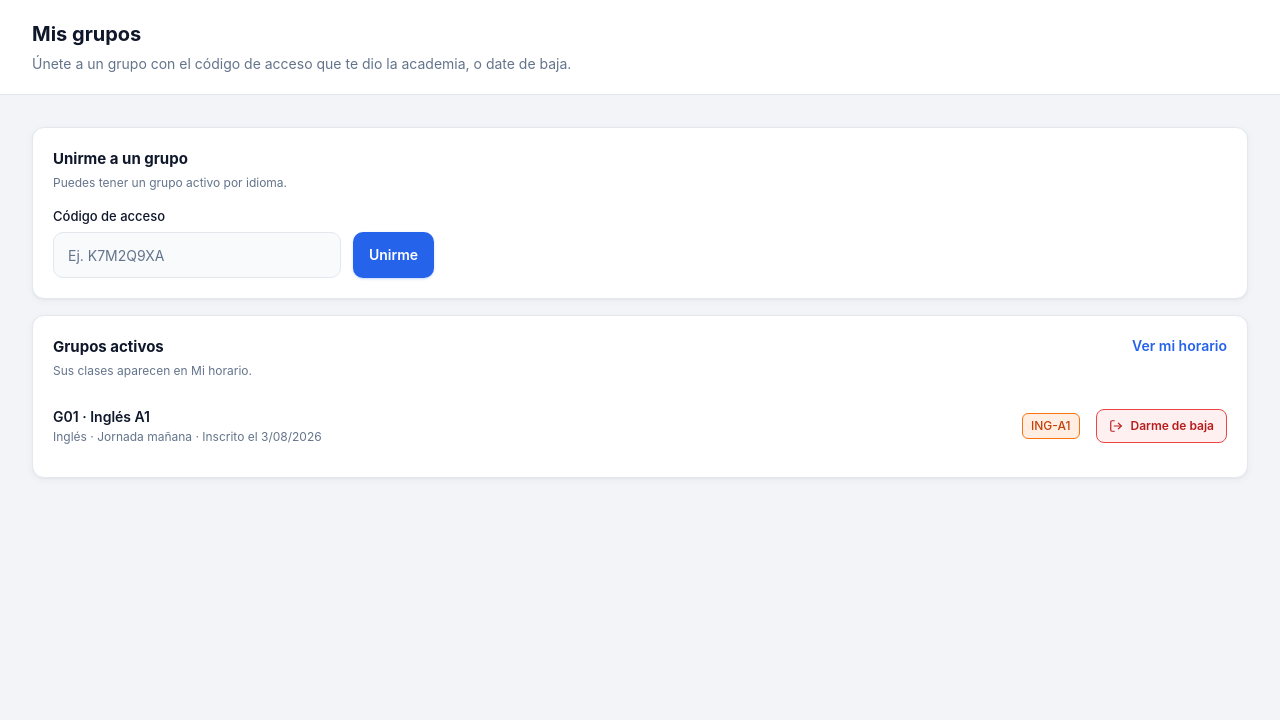
Scenario: Mis grupos del estudiante (RF-26, RF-27) › exige la confirmación escrita antes de la baja
Click the button with aria-label "Darme de baja del grupo G01" at (1161, 426), box [1096,408,1227,442]
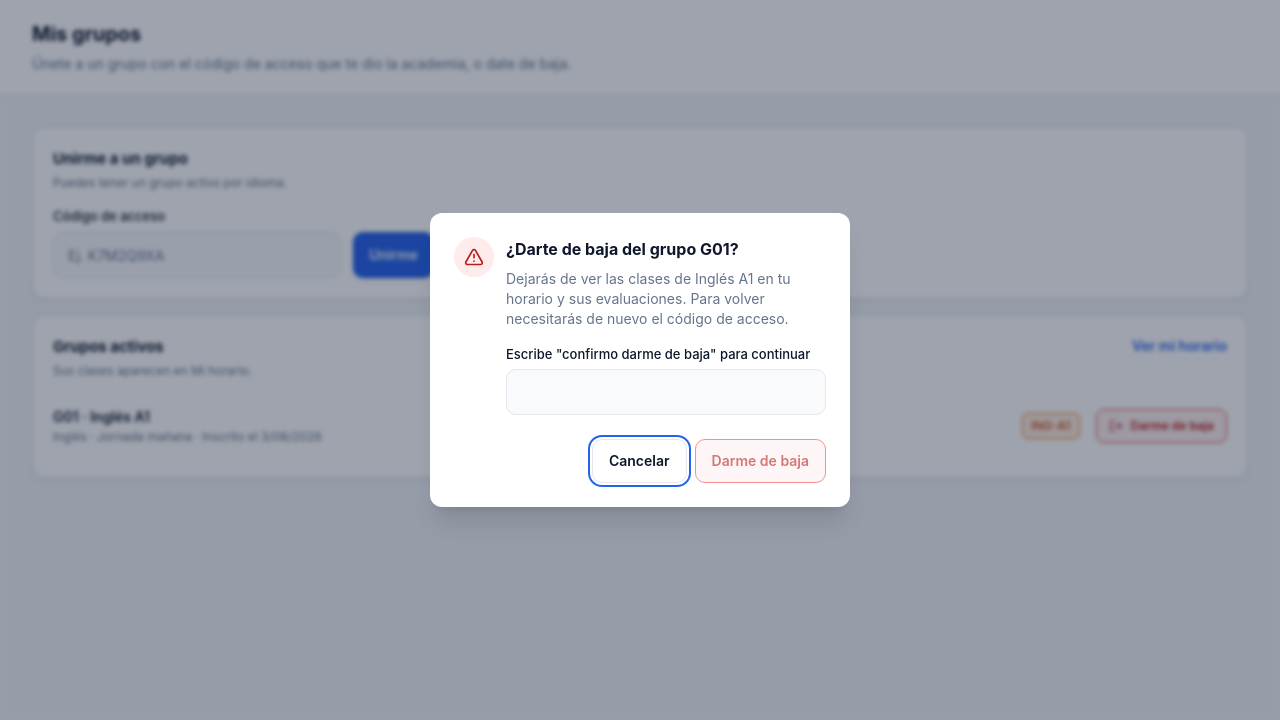
Check: the button "Darme de baja" is disabled, box [695,439,826,483]
Type "confirmo" into the field at (666, 392), box [506,369,826,415]
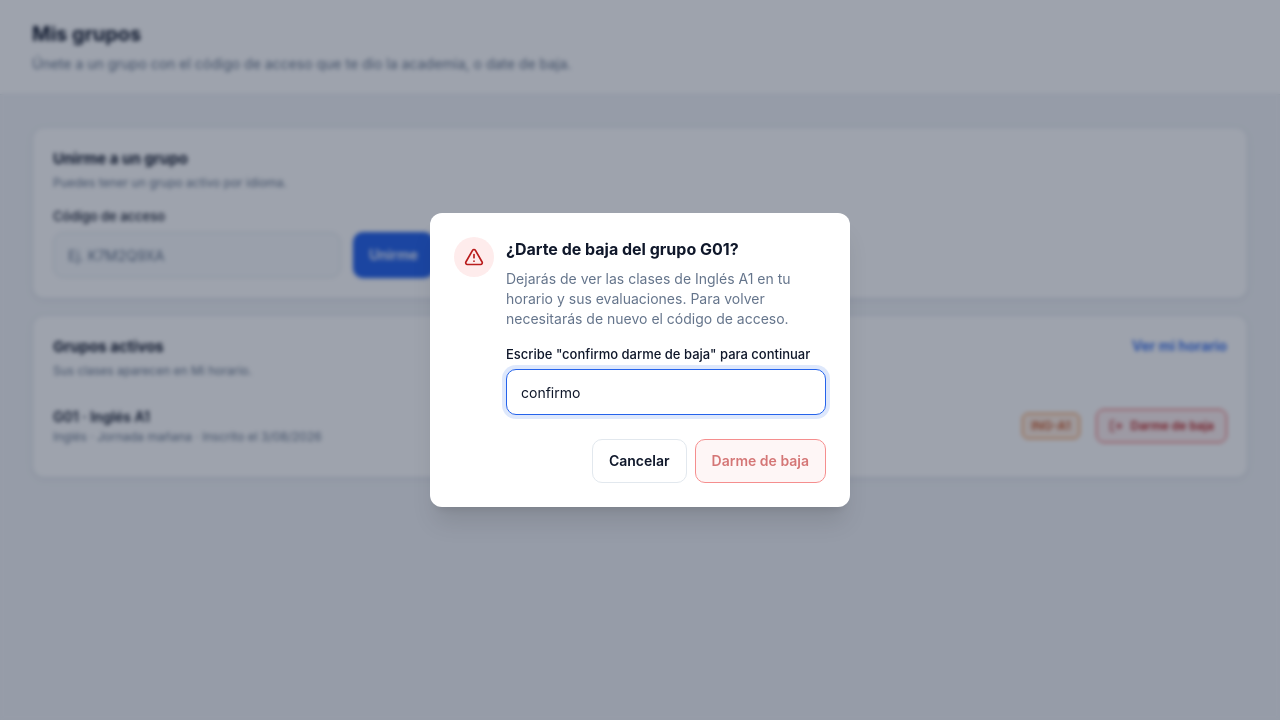
Check: the button "Darme de baja" is disabled, box [695,439,826,483]
Replace the text in the field with "Confirmo darme de baja" at (666, 392), box [506,369,826,415]
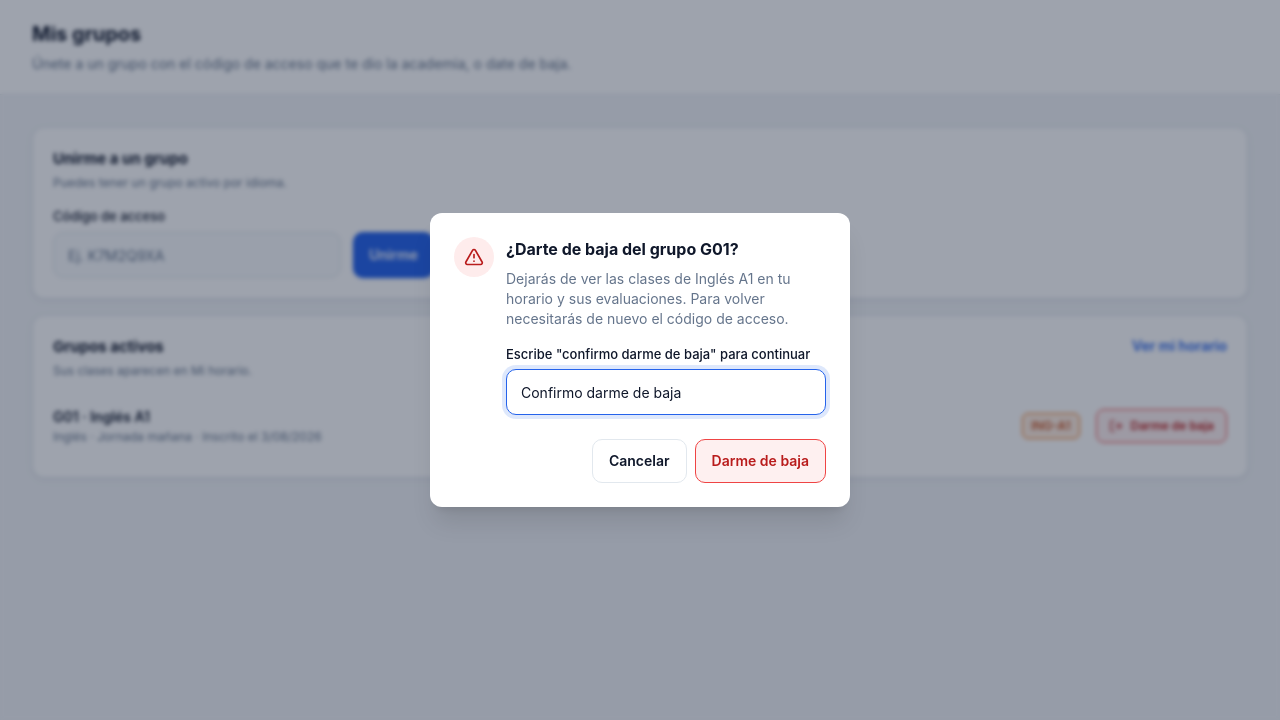
Check: the button "Darme de baja" is enabled
Click the button "Darme de baja" at (760, 461), box [695,439,826,483]
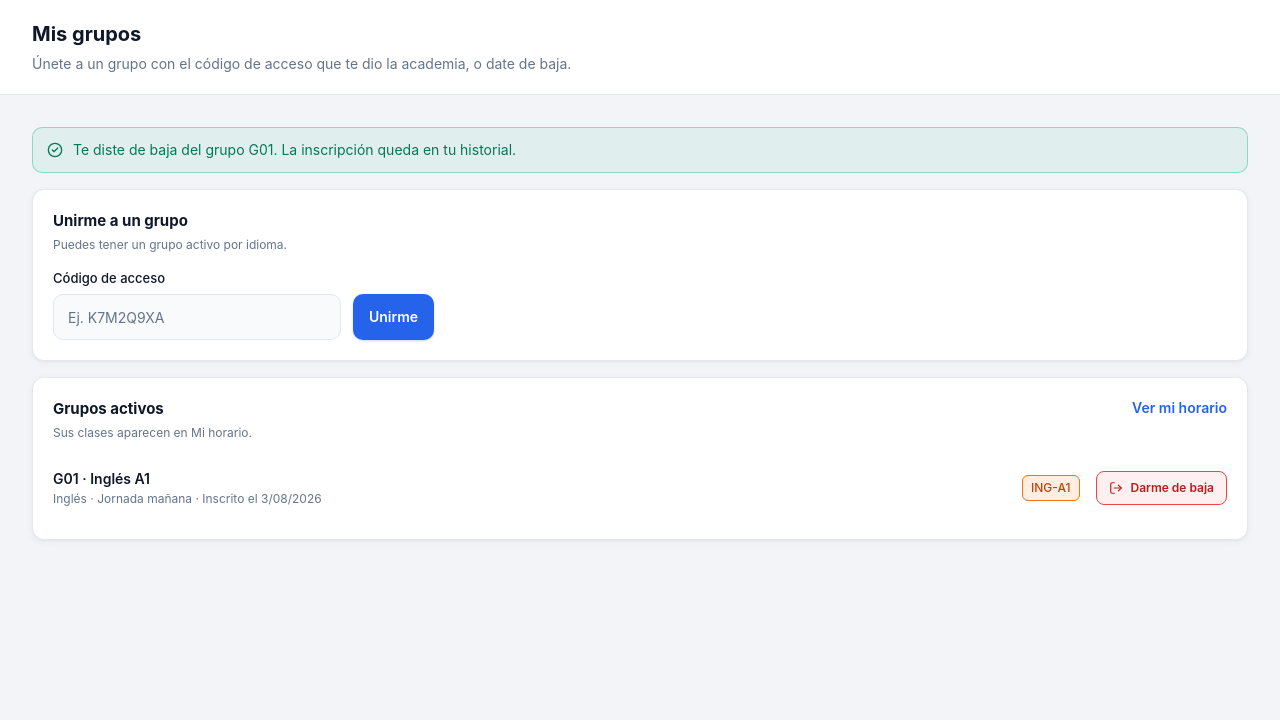
Check: the text "Te diste de baja del grupo G01" is shown, box [73,141,516,158]
Check: the dialog is gone
